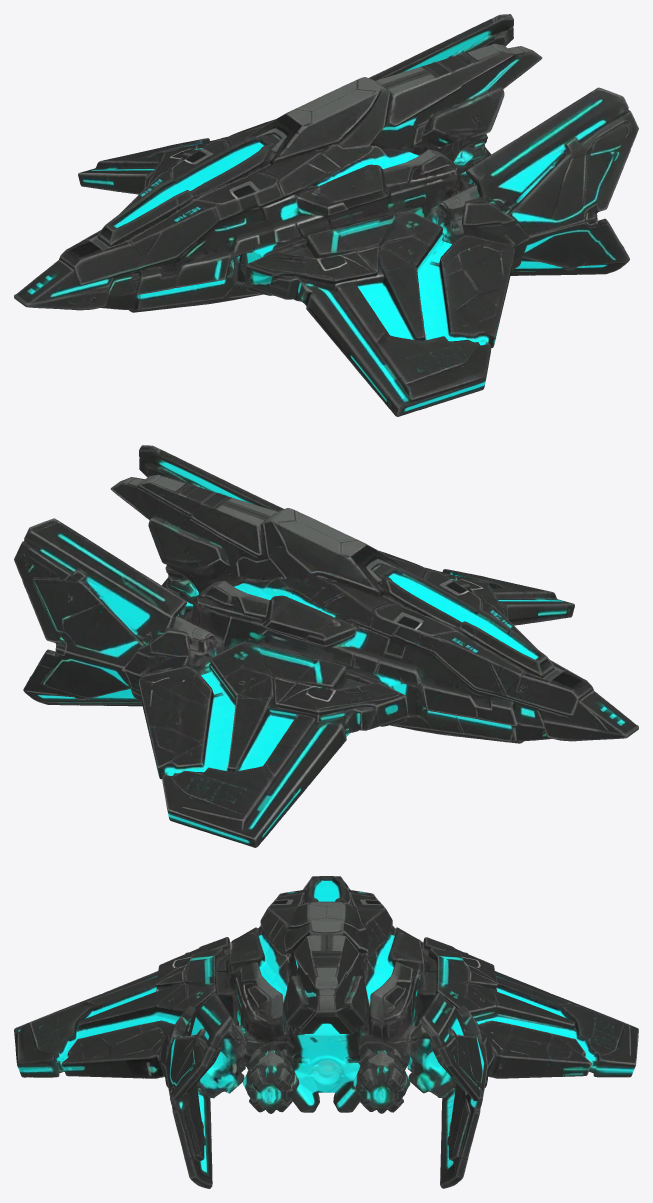
Rendered from swarm-viewer.glb.
The picture shows the model from 3 angles, top to bottom: view 1: azimuth 30°, elevation 25°; view 2: azimuth 150°, elevation 25°; view 3: azimuth 270°, elevation 25°; orthographic projection. The views are drawn at different scales.
Bounding box in the file's own units: 1.9 × 0.6336 × 1.9.
Materials: 1 (1 with a texture image).
